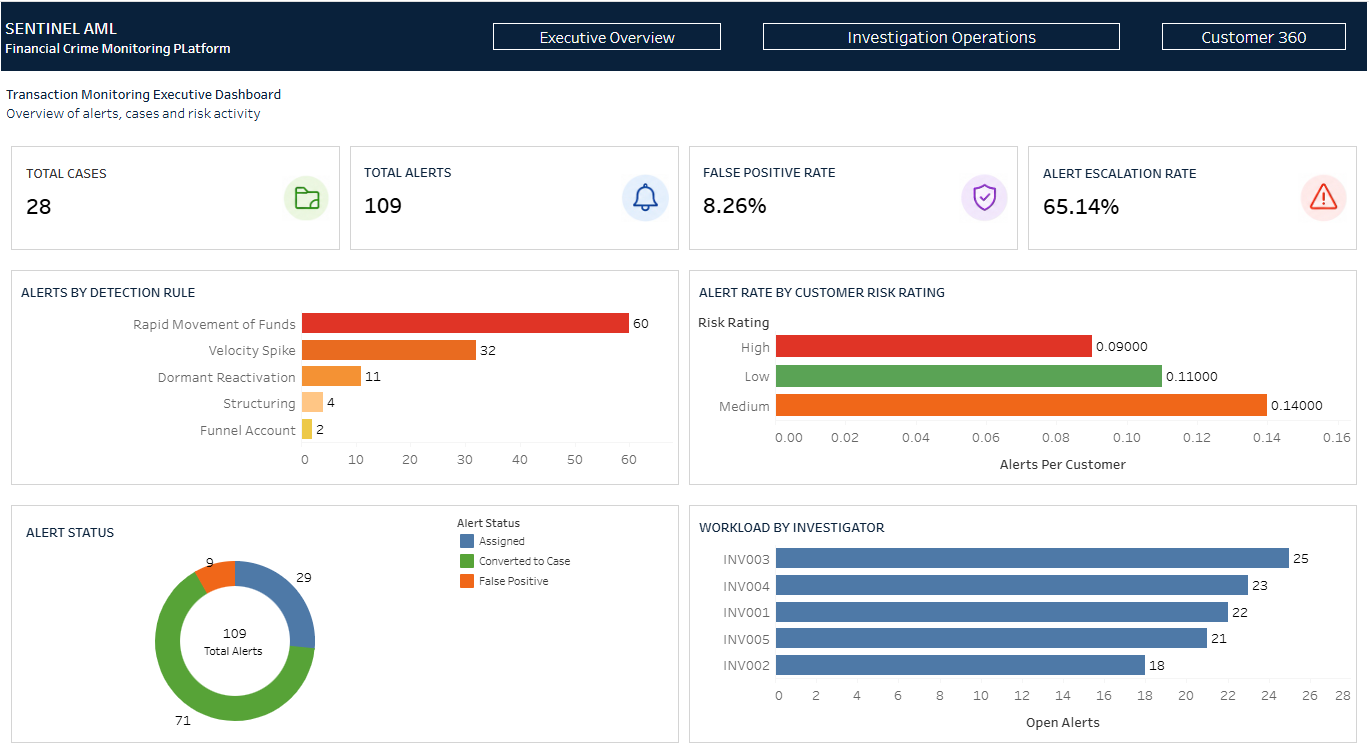

Layout of this report page (visuals, bound fields, positions):
{"tool":"tableau","page":{"name":"Dashboard 1","canvas":[1366,768],"ordinal":0},"visuals":[{"type":"text","box":[0,0,471,69.4]},{"type":"dashboard-object","box":[471,0,270,69.4]},{"type":"dashboard-object","box":[741,0,399,69.4]},{"type":"dashboard-object","box":[1140,0,226,69.4]},{"type":"title","box":[0,69.4,1366,65]},{"type":"worksheet","title":"KPI - Total CAses","mark":"Automatic","box":[16,150,261,92]},{"type":"image","param":"C:/Users/sonak/Desktop/Screenshot 2026-07-22 185139.png","box":[277,150,56,92]},{"type":"worksheet","title":"KPI -Total Alerts","mark":"Automatic","box":[355,150,261,92]},{"type":"image","param":"C:/Users/sonak/Desktop/bell.png","box":[616,150,56,92]},{"type":"worksheet","title":"1-false positive","mark":"Automatic","box":[694,150,260,92]},{"type":"image","param":"C:/Users/sonak/Desktop/Screenshot 2026-07-22 185310.png","box":[954,150,57,92]},{"type":"worksheet","title":"KPI- Alerts Converted to CAses","mark":"Automatic","box":[1033,150,260,92]},{"type":"image","param":"C:/Users/sonak/Desktop/Screenshot 2026-07-22 185337.png","box":[1293,150,57,92]},{"type":"worksheet","title":"Alerts By Rule","mark":"Bar","rows":["rule_name (vw_dashboard_alerts_202607221516.csv)"],"cols":["alert_id (vw_dashboard_alerts_202607221516.csv)"],"box":[5,263,678,225]},{"type":"worksheet","title":"1-alert rate by customer risk","mark":"Automatic","rows":["risk_rating"],"cols":["alerts_per_customer"],"box":[683,263,678,225]},{"type":"worksheet","title":"Workload By Investigator","mark":"Automatic","rows":["assigned_to (vw_dashboard_alerts_202607221516.csv)"],"cols":["alert_id (vw_dashboard_alerts_202607221516.csv)"],"box":[683,498,678,248]},{"type":"worksheet","title":"Alert Status","mark":"Pie","cols":["Calculation_826410557615939587","Calculation_826410557615939587"],"box":[16,509,436,226]},{"type":"legend","title":"Alert Status","param":"[federated.0al7et613q8bnx10lcgn71p491zi].[none:alert_status (vw_dashboard_alerts","box":[452,509,220,226]}]}

Visuals, with their boxes in screenshot pixels (x1, y1, x2, y2), scaled from the page's 1366x768 canvas onto the 1369x748 screenshot:
text: 0:0:472:68
dashboard-object: 472:0:743:68
dashboard-object: 743:0:1143:68
dashboard-object: 1143:0:1368:68
title: 0:68:1368:131
"KPI - Total CAses" worksheet: 16:146:278:236
image: 278:146:334:236
"KPI -Total Alerts" worksheet: 356:146:617:236
image: 617:146:673:236
"1-false positive" worksheet: 696:146:956:236
image: 956:146:1013:236
"KPI- Alerts Converted to CAses" worksheet: 1035:146:1296:236
image: 1296:146:1353:236
"Alerts By Rule" worksheet (Bar marks): 5:256:685:475
"1-alert rate by customer risk" worksheet: 685:256:1364:475
"Workload By Investigator" worksheet: 685:485:1364:727
"Alert Status" worksheet (Pie marks): 16:496:453:716
"Alert Status" legend: 453:496:673:716
